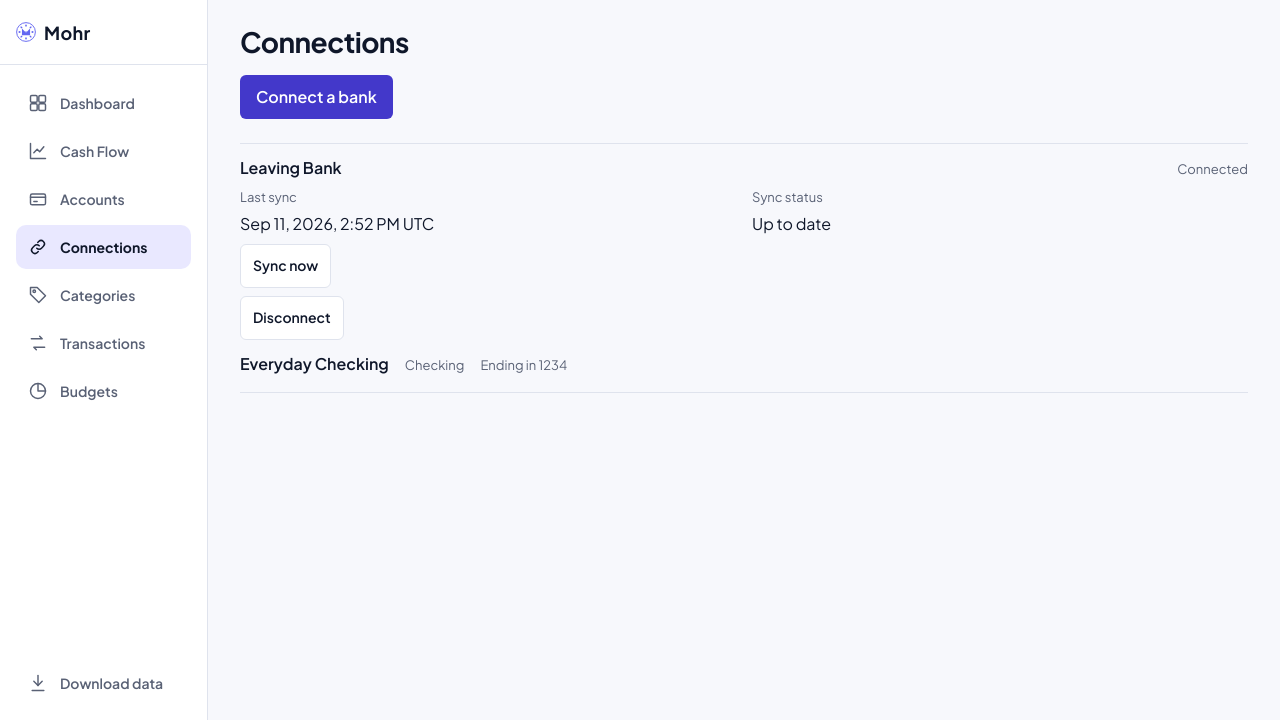
Test case: connection freshness boundary › cleans up the staleness refresh timer on unmount
Expected: the heading "Leaving Bank" is shown, [240, 156, 342, 180]
Click the link "Dashboard": (81, 103) [28, 93, 135, 113]
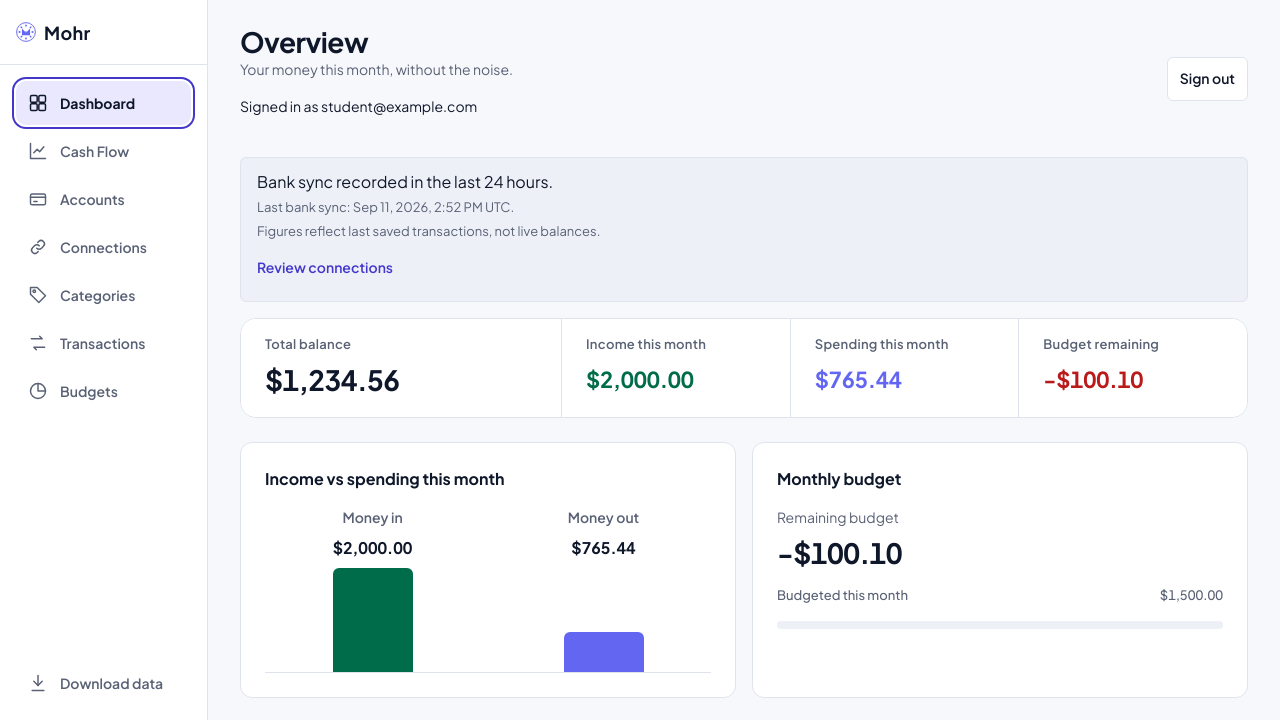
Expected: the text "$1,234.56" is shown, [265, 362, 400, 396]
Expected: the text "Bank sync recorded in the last 24 hours." is shown, [257, 171, 553, 192]
